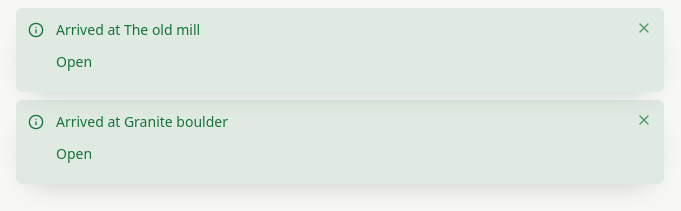
Test: ArrivalToast › dismisses one notice and keeps the rest
Expected: the number of messages with test id "player-arrival-notice" is 2, x1=16 y1=8 x2=664 y2=92; x1=16 y1=100 x2=664 y2=184
Click the button named "Dismiss" in the row of "Arrived at The old mill" at (644, 28), box x1=636 y1=20 x2=652 y2=36
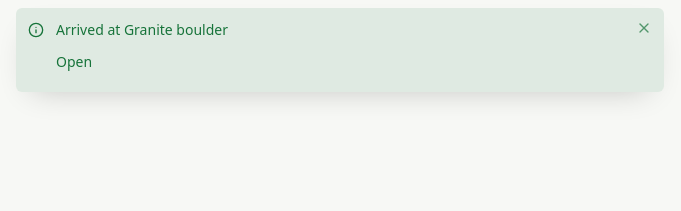
Expected: the message with test id "player-arrival-notice" shows "Granite boulder", x1=56 y1=20 x2=228 y2=39
Expected: the number of messages with test id "player-arrival-notice" is 1, x1=16 y1=8 x2=664 y2=92
